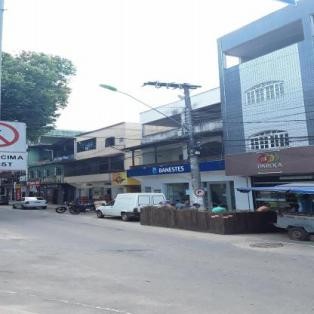Poste: (181, 82, 205, 211)
